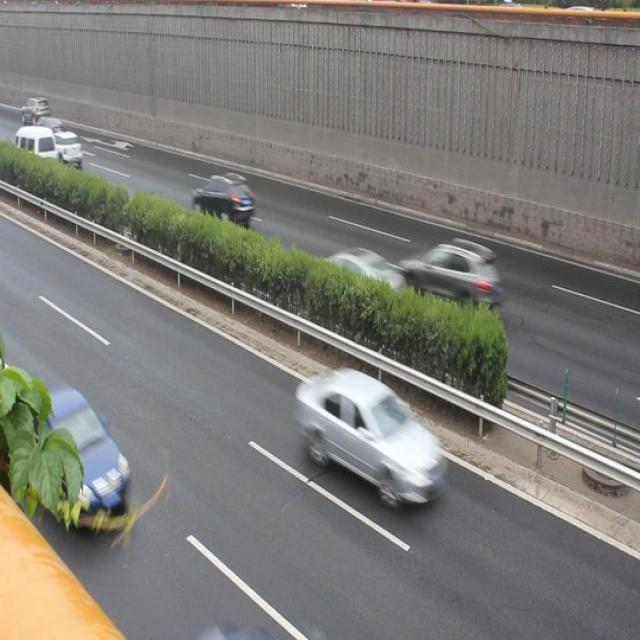car: (296, 369, 448, 504), (14, 386, 136, 520), (398, 233, 502, 325), (318, 241, 408, 307), (191, 175, 255, 230), (53, 125, 85, 165)
truck: (14, 124, 59, 178)
